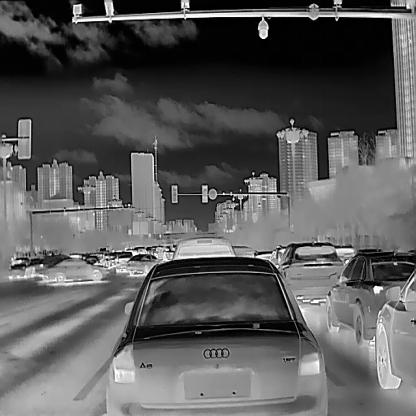car: (105, 256, 326, 415), (326, 247, 414, 347), (374, 272, 415, 390), (274, 240, 344, 292), (40, 257, 110, 281), (170, 235, 236, 258), (125, 252, 166, 274), (7, 256, 30, 277)
